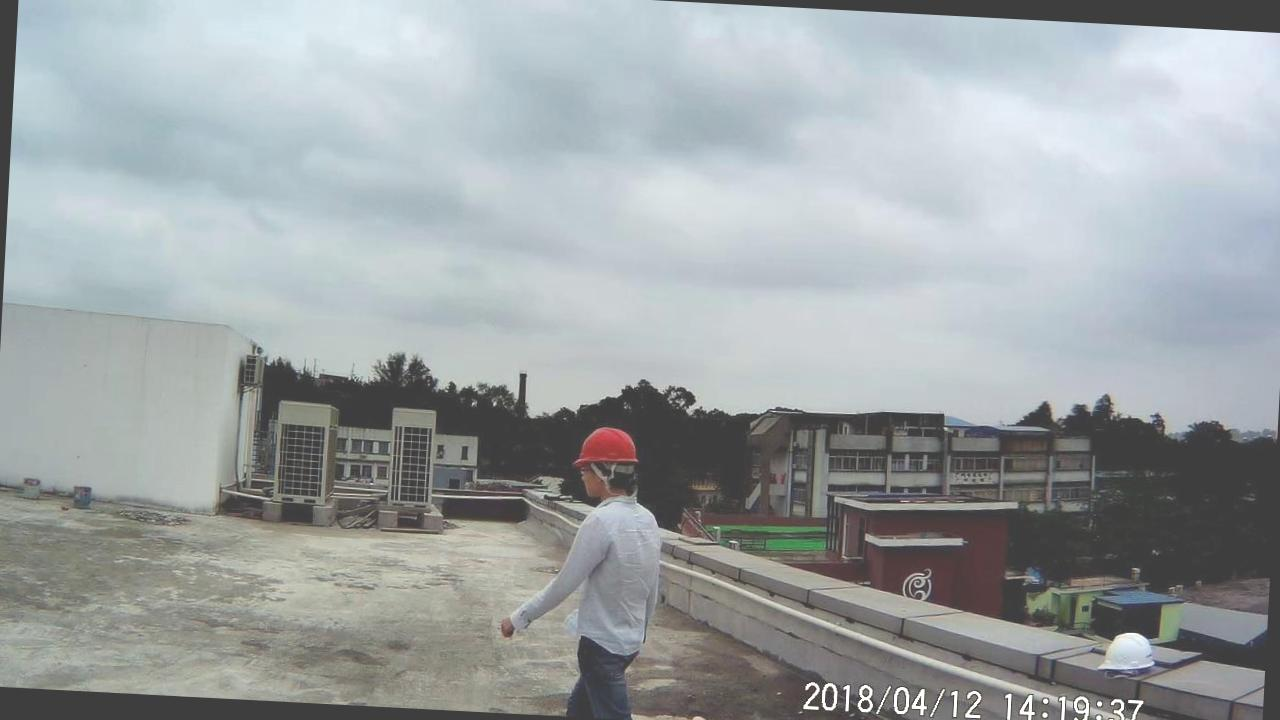helmet: (569, 420, 643, 476)
no_vest: (571, 490, 665, 677)
person: (543, 418, 676, 720)
